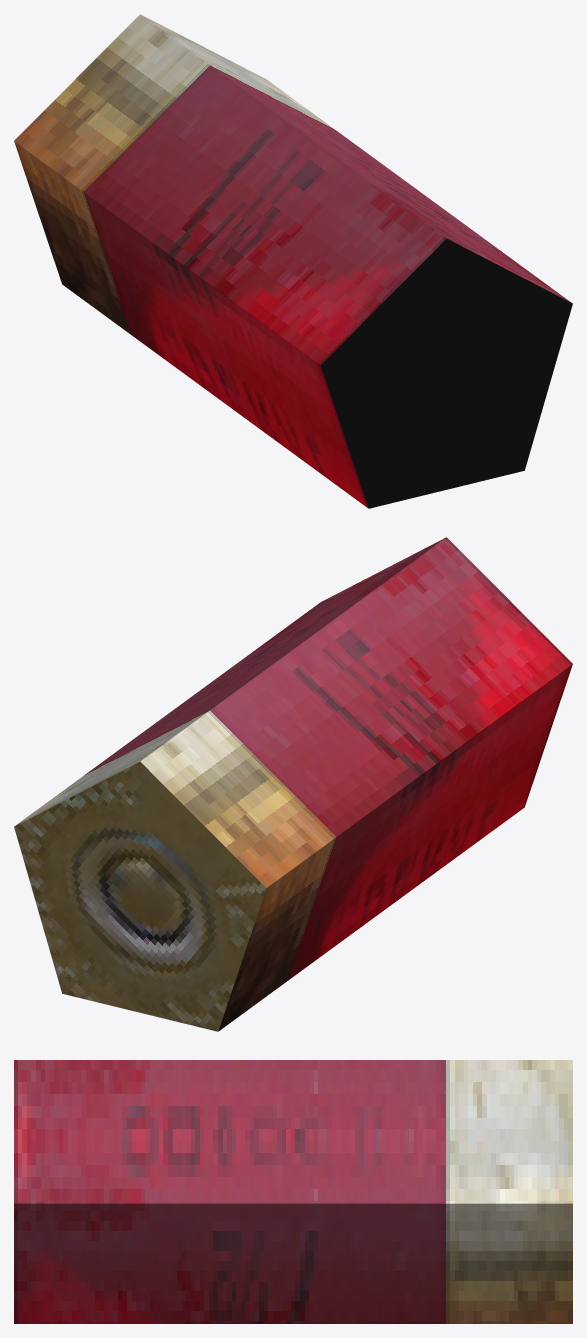
The model's file is PSXShotgunShell.glb.
3 renders of one model, top to bottom at view 1: azimuth 30°, elevation 25°; view 2: azimuth 150°, elevation 25°; view 3: azimuth 270°, elevation 25°, orthographic. The views are drawn at different scales.
Visible parts, largest first — view 1: ShotgunShell; view 2: ShotgunShell; view 3: ShotgunShell.
Part boxes in pixels (box(x1,y1,x2,y2)): ShotgunShell: box(14, 14, 572, 508); ShotgunShell: box(14, 537, 572, 1031); ShotgunShell: box(14, 1060, 572, 1323).
Bounding box in the file's own units: 0.2058 × 0.1957 × 0.4327.
Materials: 1 (1 with a texture image).
